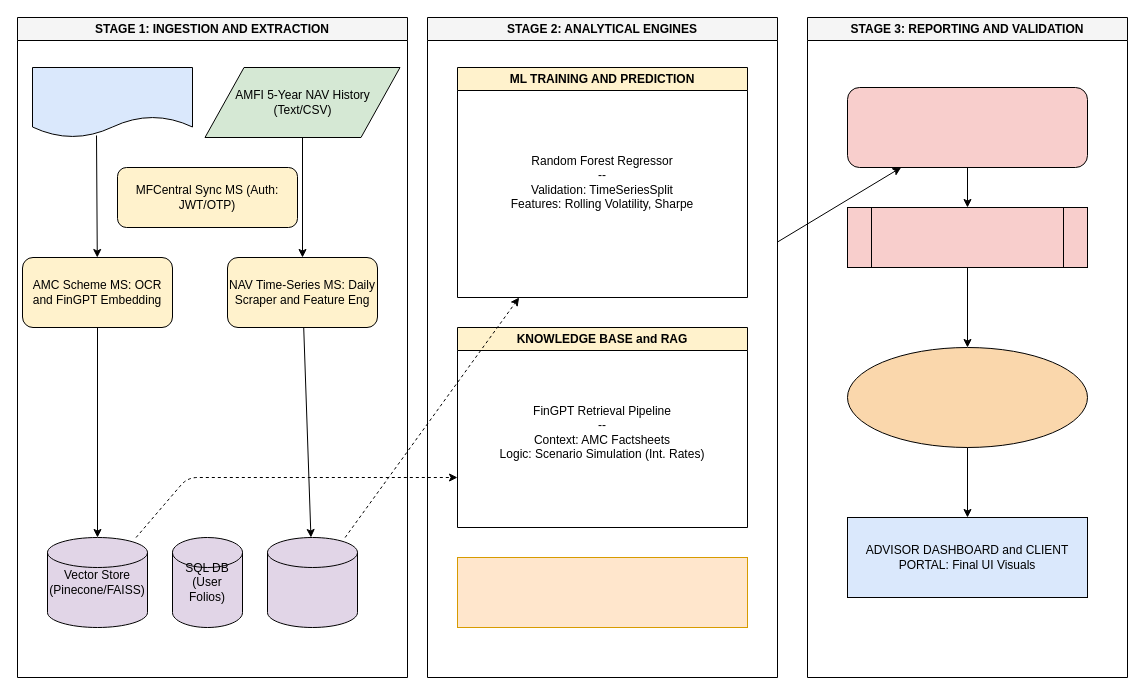
This 1145x695 diagram has some shape labels left out. The centre of each missing label's shape, as x and y in pixels:
"100+ AMC Factsheets and SEBI Guidelines (PDF)" belongs at point 112,102.
"EXPERT ANALYST SCORING: Accuracy and Regulatory Audit" belongs at point 967,397.
"GPT-5 SUMMARY ENGINE: Reports for Coherence and Compliance" belongs at point 967,127.
"MongoDB (NAV History)" belongs at point 312,582.
"OFF-TRACK LOGIC TESTER: Simulated Interest Rate and Sector Corrections" belongs at point 602,592.
"PDF REPORT GENERATOR: 50 Sample Samples" belongs at point 967,237.
